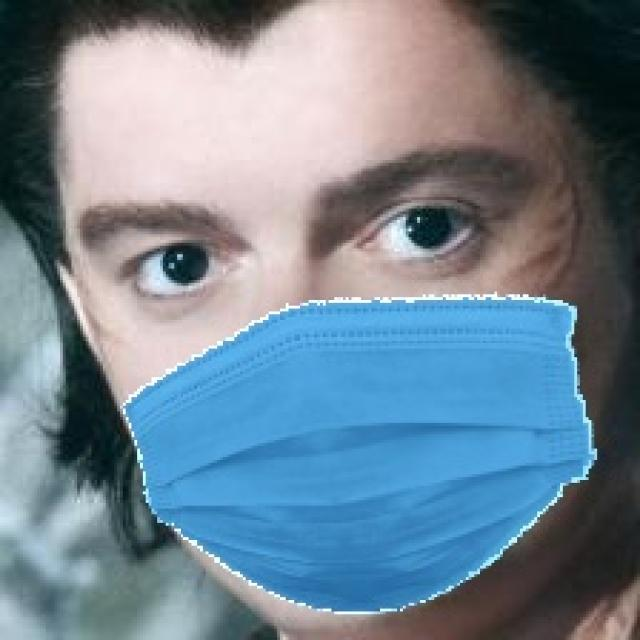mask: (107, 323, 620, 604)
